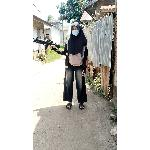Senapan: (33, 34, 63, 54)
